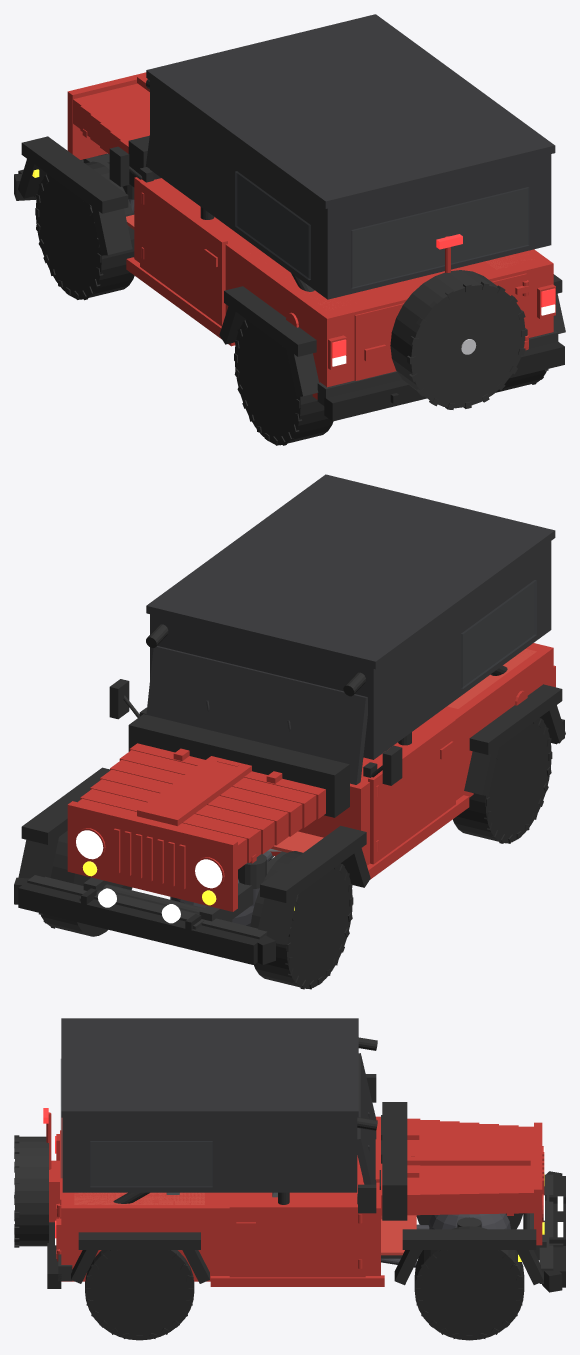
Rendered from Car_Jeep_Wrangler_TJ_2000s_Complete.glb.
3 views of the same model, one above another, from view 1: azimuth 30°, elevation 25°; view 2: azimuth 150°, elevation 25°; view 3: azimuth 270°, elevation 25° (orthographic). The views are drawn at different scales.
Visible parts, largest first — view 1: BODY_Jeep_Wrangler_TJ_Hardtop_And_Frame, BODY_Jeep_Wrangler_TJ_Tub_And_Hood, WHEELS_31in_Goodyear_MTR_Tires, GLASS_Jeep_Wrangler_TJ_Tinted_Windows, WHEELS_Jeep_Wrangler_TJ_MTR_Spare_Tire, BODY_Jeep_Wrangler_TJ_Rubicon_Fender_Flares, BODY_Jeep_Wrangler_TJ_Tailgate, BODY_Jeep_Wrangler_TJ_Rear_Bumper, CHASSIS_Boxed_Steel_Ladder_Frame, BODY_Jeep_Wrangler_TJ_7Slot_Grille, BODY_Jeep_Wrangler_TJ_Exterior_Jewelry, OPTICS_Jeep_Wrangler_TJ_Taillights_Red (+1 smaller); view 2: BODY_Jeep_Wrangler_TJ_Hardtop_And_Frame, BODY_Jeep_Wrangler_TJ_Tub_And_Hood, WHEELS_31in_Goodyear_MTR_Tires, BODY_Jeep_Wrangler_TJ_Rubicon_Fender_Flares, BODY_Jeep_Wrangler_TJ_7Slot_Grille, BODY_Jeep_Wrangler_TJ_Front_Bumper, INTERIOR_TJ_Dash_Wheel_And_Controls, CHASSIS_Boxed_Steel_Ladder_Frame, GLASS_Jeep_Wrangler_TJ_Tinted_Windows, OPTICS_Jeep_Wrangler_TJ_Sealed_Headlights, BODY_Jeep_Wrangler_TJ_Exterior_Jewelry, INTERIOR_Tub_Floor_And_Panels (+1 smaller); view 3: BODY_Jeep_Wrangler_TJ_Hardtop_And_Frame, BODY_Jeep_Wrangler_TJ_Tub_And_Hood, WHEELS_31in_Goodyear_MTR_Tires, BODY_Jeep_Wrangler_TJ_Rubicon_Fender_Flares, GLASS_Jeep_Wrangler_TJ_Tinted_Windows, WHEELS_Jeep_Wrangler_TJ_MTR_Spare_Tire, INTERIOR_TJ_Dash_Wheel_And_Controls, INTERIOR_Tub_Floor_And_Panels, CHASSIS_Boxed_Steel_Ladder_Frame, BODY_Jeep_Wrangler_TJ_Front_Bumper, BODY_Jeep_Wrangler_TJ_Tailgate, BODY_Jeep_Wrangler_TJ_7Slot_Grille (+4 smaller).
Boxes of the visible parts, x1,y1,x2,y2 form: BODY_Jeep_Wrangler_TJ_Hardtop_And_Frame: (146,14,555,299); BODY_Jeep_Wrangler_TJ_Tub_And_Hood: (73,75,553,399); WHEELS_31in_Goodyear_MTR_Tires: (35,161,548,445); GLASS_Jeep_Wrangler_TJ_Tinted_Windows: (235,171,529,288); WHEELS_Jeep_Wrangler_TJ_MTR_Spare_Tire: (390,270,527,409); BODY_Jeep_Wrangler_TJ_Rubicon_Fender_Flares: (18,136,565,396); BODY_Jeep_Wrangler_TJ_Tailgate: (328,236,555,380); BODY_Jeep_Wrangler_TJ_Rear_Bumper: (324,341,564,421); CHASSIS_Boxed_Steel_Ladder_Frame: (34,154,558,405); BODY_Jeep_Wrangler_TJ_7Slot_Grille: (67,72,146,159); BODY_Jeep_Wrangler_TJ_Exterior_Jewelry: (109,146,153,186); OPTICS_Jeep_Wrangler_TJ_Taillights_Red: (332,234,555,358); BODY_Jeep_Wrangler_TJ_Hardtop_And_Frame: (146,474,555,784); BODY_Jeep_Wrangler_TJ_Tub_And_Hood: (78,643,553,879); WHEELS_31in_Goodyear_MTR_Tires: (38,717,552,989); BODY_Jeep_Wrangler_TJ_Rubicon_Fender_Flares: (18,684,565,944); BODY_Jeep_Wrangler_TJ_7Slot_Grille: (67,801,237,911); BODY_Jeep_Wrangler_TJ_Front_Bumper: (14,877,275,964); INTERIOR_TJ_Dash_Wheel_And_Controls: (128,714,349,817); CHASSIS_Boxed_Steel_Ladder_Frame: (27,851,287,939); GLASS_Jeep_Wrangler_TJ_Tinted_Windows: (461,580,536,688); OPTICS_Jeep_Wrangler_TJ_Sealed_Headlights: (76,830,222,923); BODY_Jeep_Wrangler_TJ_Exterior_Jewelry: (109,679,402,785); INTERIOR_Tub_Floor_And_Panels: (271,649,536,852); BODY_Jeep_Wrangler_TJ_Hardtop_And_Frame: (61,1018,376,1192); BODY_Jeep_Wrangler_TJ_Tub_And_Hood: (61,1116,533,1286); WHEELS_31in_Goodyear_MTR_Tires: (85,1213,524,1340); BODY_Jeep_Wrangler_TJ_Rubicon_Fender_Flares: (71,1229,543,1285); GLASS_Jeep_Wrangler_TJ_Tinted_Windows: (60,1059,212,1187); WHEELS_Jeep_Wrangler_TJ_MTR_Spare_Tire: (14,1135,48,1247); INTERIOR_TJ_Dash_Wheel_And_Controls: (379,1102,407,1220); INTERIOR_Tub_Floor_And_Panels: (74,1192,416,1255); CHASSIS_Boxed_Steel_Ladder_Frame: (58,1174,563,1283); BODY_Jeep_Wrangler_TJ_Front_Bumper: (542,1171,565,1292); BODY_Jeep_Wrangler_TJ_Tailgate: (46,1112,61,1261); BODY_Jeep_Wrangler_TJ_7Slot_Grille: (534,1122,544,1245).
Bounding box in the file's own units: 1.94 × 1.78 × 3.97.
